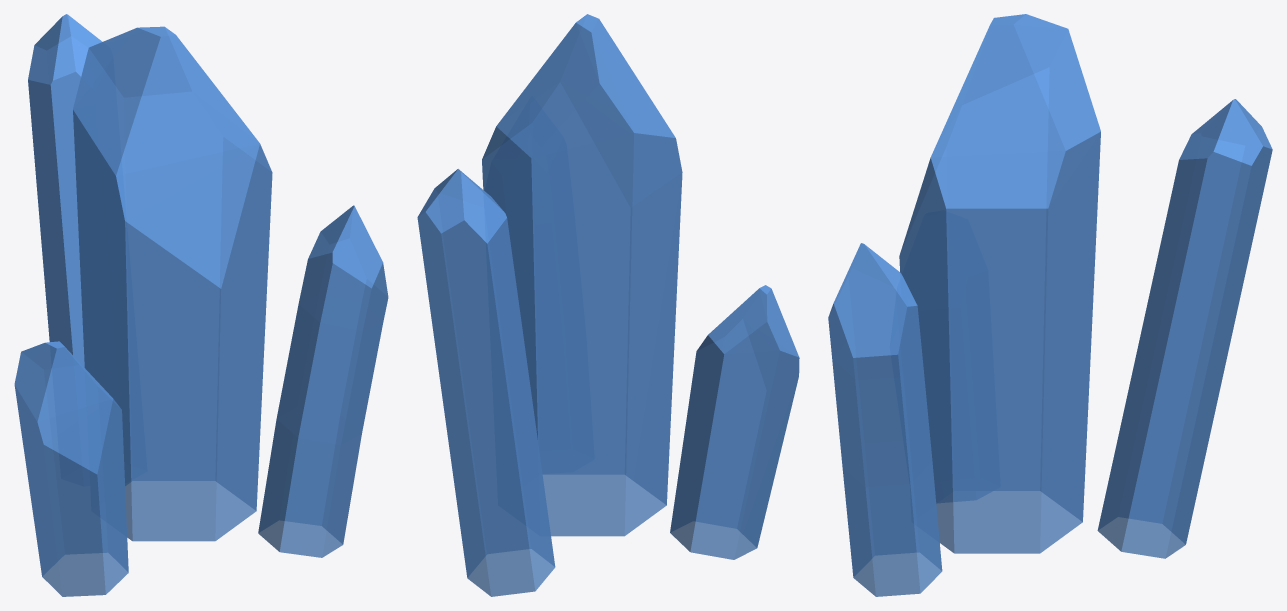
The model's file is Crystals_l_03.fbx.
The picture shows the model from 3 angles, left to right: view 1: azimuth 30°, elevation 25°; view 2: azimuth 150°, elevation 25°; view 3: azimuth 270°, elevation 25°; orthographic projection. The views are drawn at different scales.
Visible parts, largest first — view 1: Crystals_l_03; view 2: Crystals_l_03; view 3: Crystals_l_03.
Boxes of the visible parts, bbox=[...] form: Crystals_l_03: bbox=[14, 14, 388, 596]; Crystals_l_03: bbox=[417, 14, 799, 596]; Crystals_l_03: bbox=[828, 14, 1272, 596].
Size of the model in its own units: 266 by 403 by 308.
